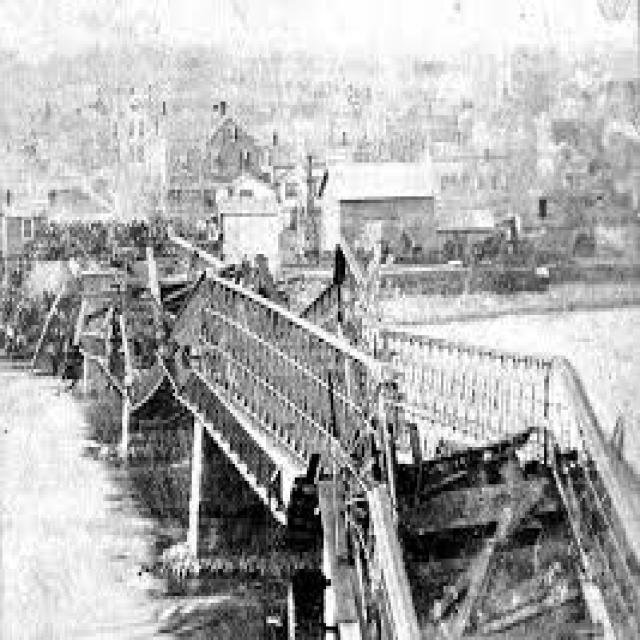bridge collapse: (24, 186, 640, 640)
